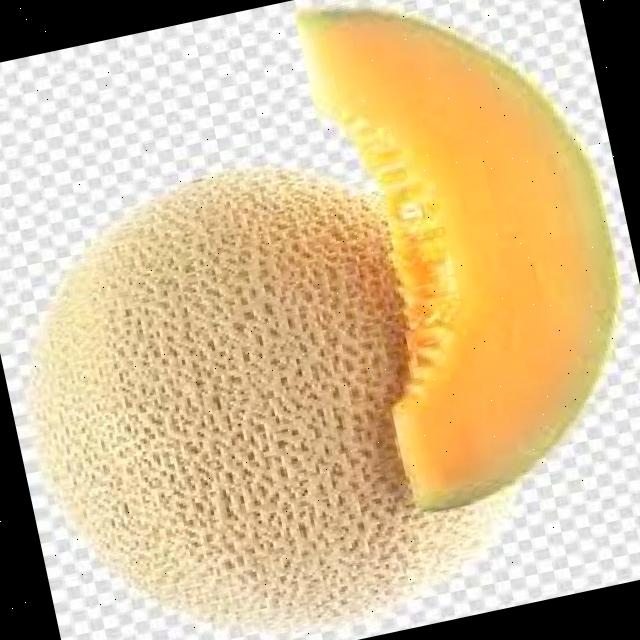Hami Melon: (0, 130, 506, 640), (289, 0, 640, 519)
